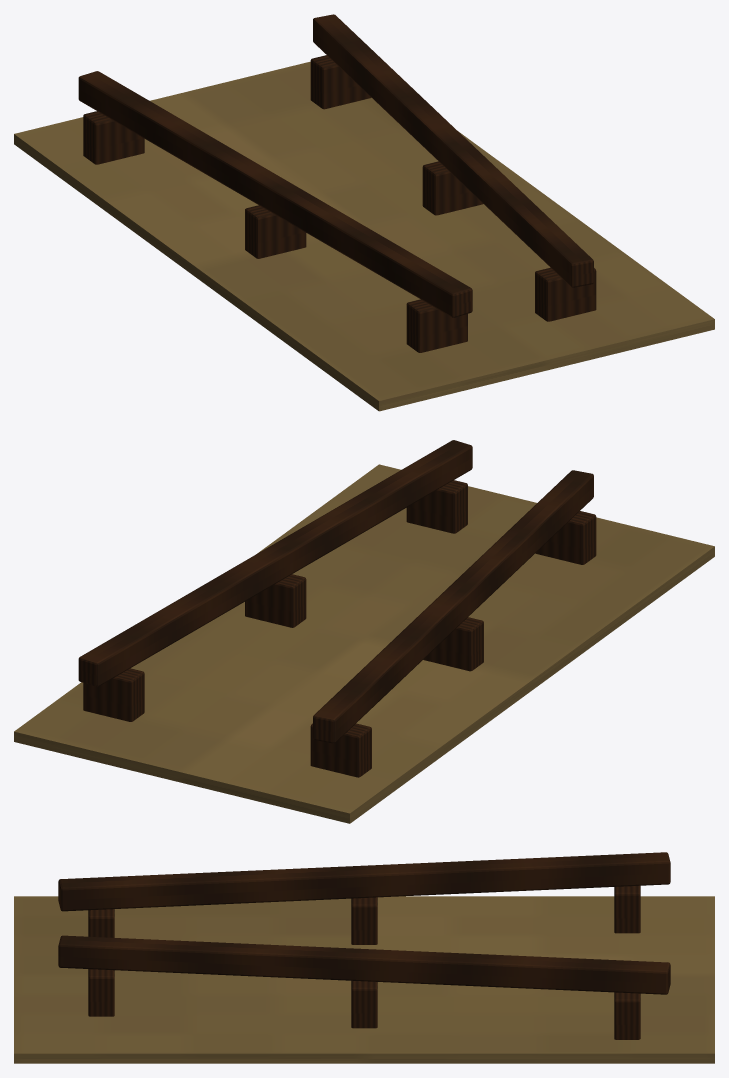
Rendered from fac_obst_beam.glb.
3 views of the same model, one above another, from view 1: azimuth 30°, elevation 25°; view 2: azimuth 150°, elevation 25°; view 3: azimuth 270°, elevation 25° (orthographic). The views are drawn at different scales.
Visible parts, largest first — view 1: FAC_OBST_BEAM; view 2: FAC_OBST_BEAM; view 3: FAC_OBST_BEAM.
Boxes of the visible parts, x1,y1,x2,y2 form: FAC_OBST_BEAM: (14,14,714,411); FAC_OBST_BEAM: (14,440,714,823); FAC_OBST_BEAM: (14,852,714,1063).
Bounding box in the file's own units: 3.4 × 0.74 × 6.4.
Materials: 2 (2 with a texture image).
